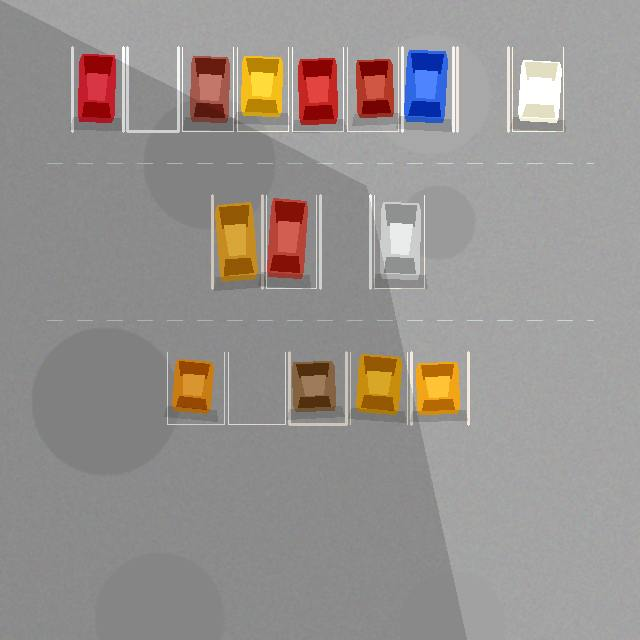space-empty: (320, 195, 370, 288), (127, 47, 178, 131), (457, 47, 508, 131), (228, 352, 285, 424)
space-occupied: (212, 195, 262, 288), (266, 195, 316, 288), (374, 195, 424, 288), (72, 47, 123, 131), (182, 47, 233, 131), (237, 47, 288, 131), (292, 47, 343, 131), (347, 47, 398, 131), (402, 47, 453, 131), (512, 47, 563, 131), (167, 352, 224, 424), (289, 352, 346, 424), (350, 352, 407, 424), (411, 352, 468, 424)
